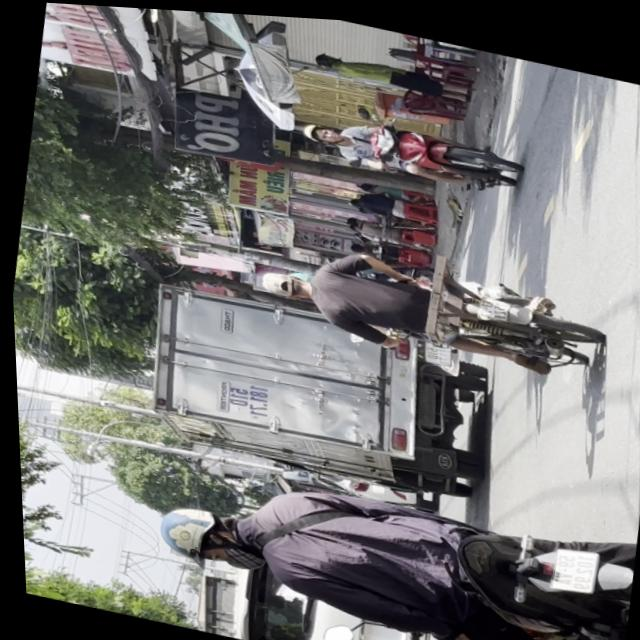helmet: (149, 496, 252, 571), (300, 116, 342, 142)
licenseplate: (133, 431, 636, 640), (247, 222, 614, 391), (295, 97, 524, 196)
motorcyclist: (256, 263, 309, 298)
nohelmet: (544, 536, 595, 587), (474, 289, 510, 317)
